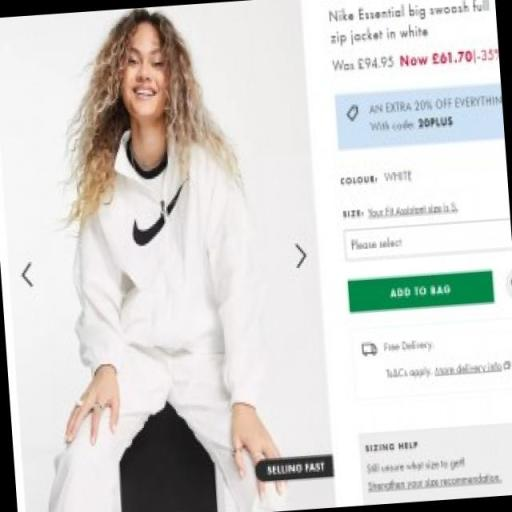Nike: (125, 176, 190, 250)
